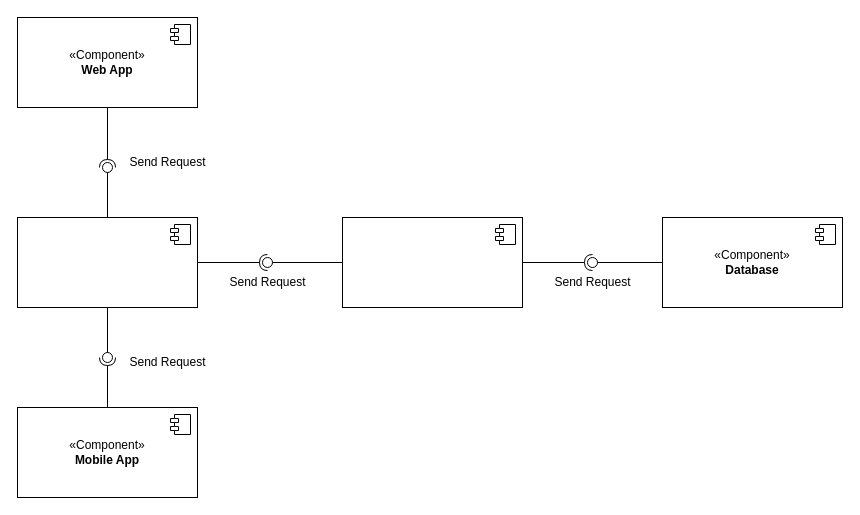
This 860x515 diagram has some shape labels left out. The shapes that lost their labels are listed below. From the top down, each one's box as (x1, y1, x2, y2) in pixels, then its label:
(16, 216, 198, 308): «Component» Web Server
(342, 216, 522, 308): «Component» Application Server
